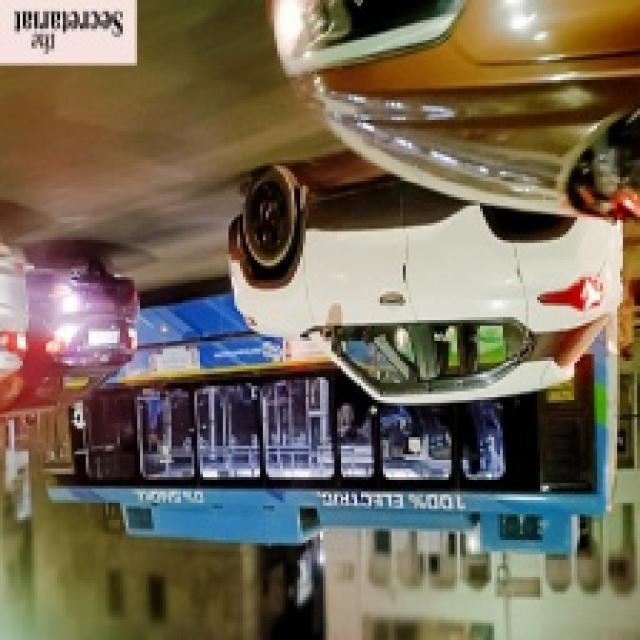car: (220, 162, 625, 405), (5, 256, 142, 431)
